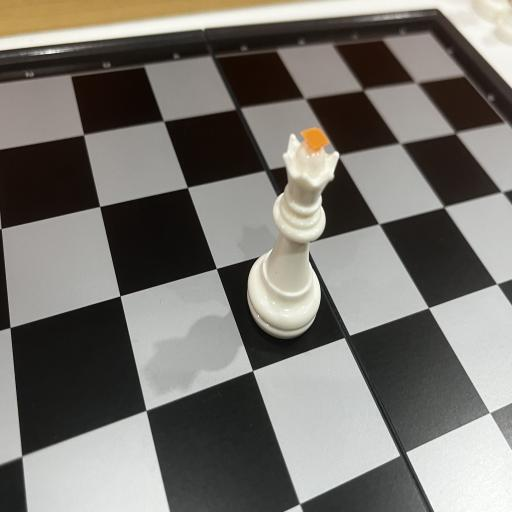White queen: (248, 127, 340, 339)
